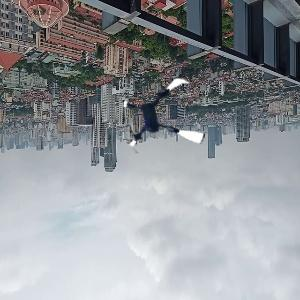drone: (123, 75, 210, 162)
